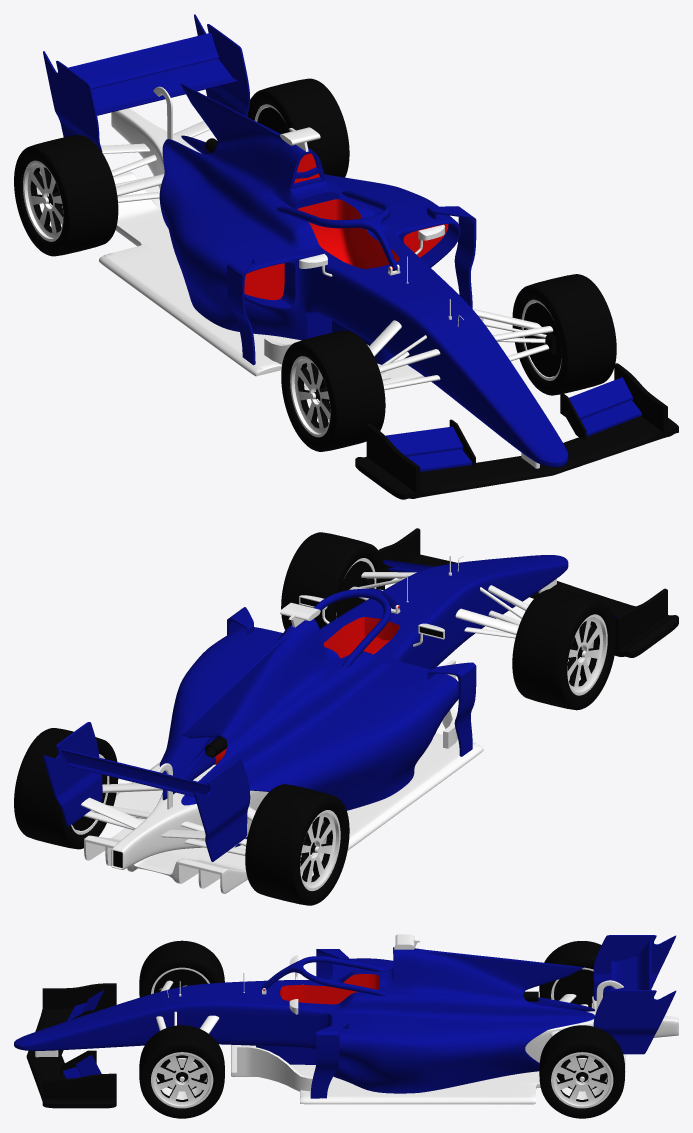
The model's file is Men_accessory_RacingBulls_px68_py15_pz-30_s0d3_5000.f2946881.glb.
3 renders of one model, top to bottom at view 1: azimuth 30°, elevation 25°; view 2: azimuth 150°, elevation 25°; view 3: azimuth 270°, elevation 25°, orthographic. The views are drawn at different scales.
Parts seen in each view (by area): view 1: _gltfNode_0, _gltfNode_3, _gltfNode_13, _gltfNode_16, _gltfNode_4, _gltfNode_2, _gltfNode_10, _gltfNode_1, _gltfNode_14, _gltfNode_17; view 2: _gltfNode_0, _gltfNode_3, _gltfNode_16, _gltfNode_13, _gltfNode_4, _gltfNode_17, _gltfNode_14, _gltfNode_2, _gltfNode_10; view 3: _gltfNode_0, _gltfNode_3, _gltfNode_13, _gltfNode_4, _gltfNode_16, _gltfNode_10, _gltfNode_14, _gltfNode_17, _gltfNode_2, _gltfNode_9.
Boxes of the visible parts, x1,y1,x2,y2 form: _gltfNode_0: [43, 14, 641, 471]; _gltfNode_3: [99, 86, 553, 468]; _gltfNode_13: [281, 274, 616, 451]; _gltfNode_16: [14, 78, 349, 256]; _gltfNode_4: [355, 363, 678, 499]; _gltfNode_2: [298, 199, 399, 268]; _gltfNode_10: [47, 107, 561, 401]; _gltfNode_1: [244, 153, 448, 300]; _gltfNode_14: [290, 299, 561, 437]; _gltfNode_17: [23, 104, 284, 241]; _gltfNode_0: [43, 555, 616, 861]; _gltfNode_3: [81, 555, 556, 893]; _gltfNode_16: [14, 728, 349, 905]; _gltfNode_13: [281, 532, 616, 710]; _gltfNode_4: [378, 528, 678, 657]; _gltfNode_17: [71, 754, 340, 890]; _gltfNode_14: [336, 558, 607, 695]; _gltfNode_2: [323, 617, 399, 658]; _gltfNode_10: [72, 561, 583, 855]; _gltfNode_0: [14, 935, 676, 1098]; _gltfNode_3: [35, 934, 678, 1104]; _gltfNode_13: [139, 940, 224, 1118]; _gltfNode_4: [26, 983, 116, 1108]; _gltfNode_16: [539, 941, 625, 1118]; _gltfNode_10: [153, 969, 607, 1089]; _gltfNode_14: [151, 967, 213, 1108]; _gltfNode_17: [551, 967, 613, 1108]; _gltfNode_2: [280, 974, 378, 1004]; _gltfNode_9: [164, 1058, 600, 1091].
Bounding box in the file's own units: 170 × 99.24 × 463.
